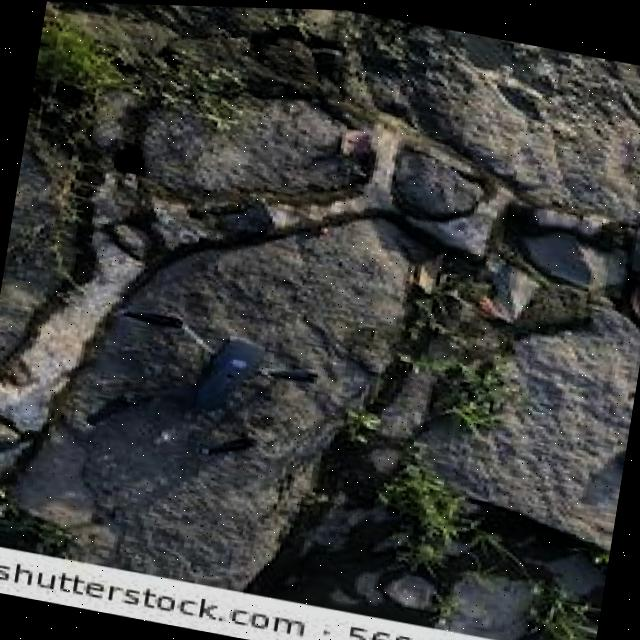drone: (30, 283, 402, 493)
